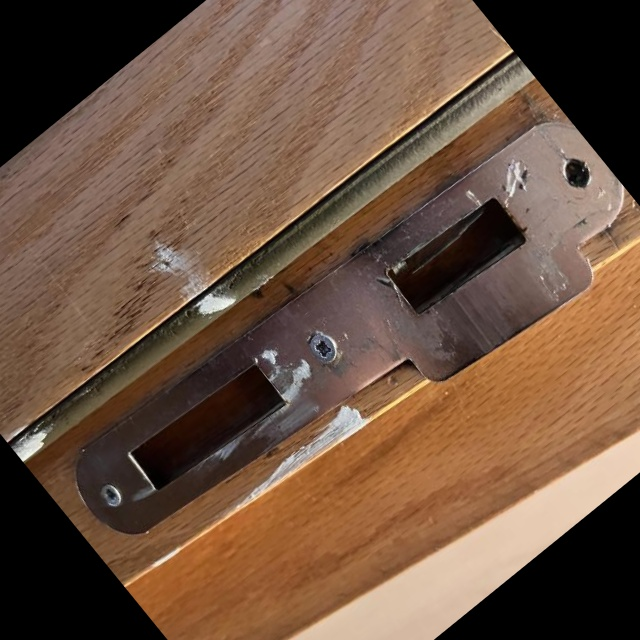pozidriv: (304, 329, 342, 368)
